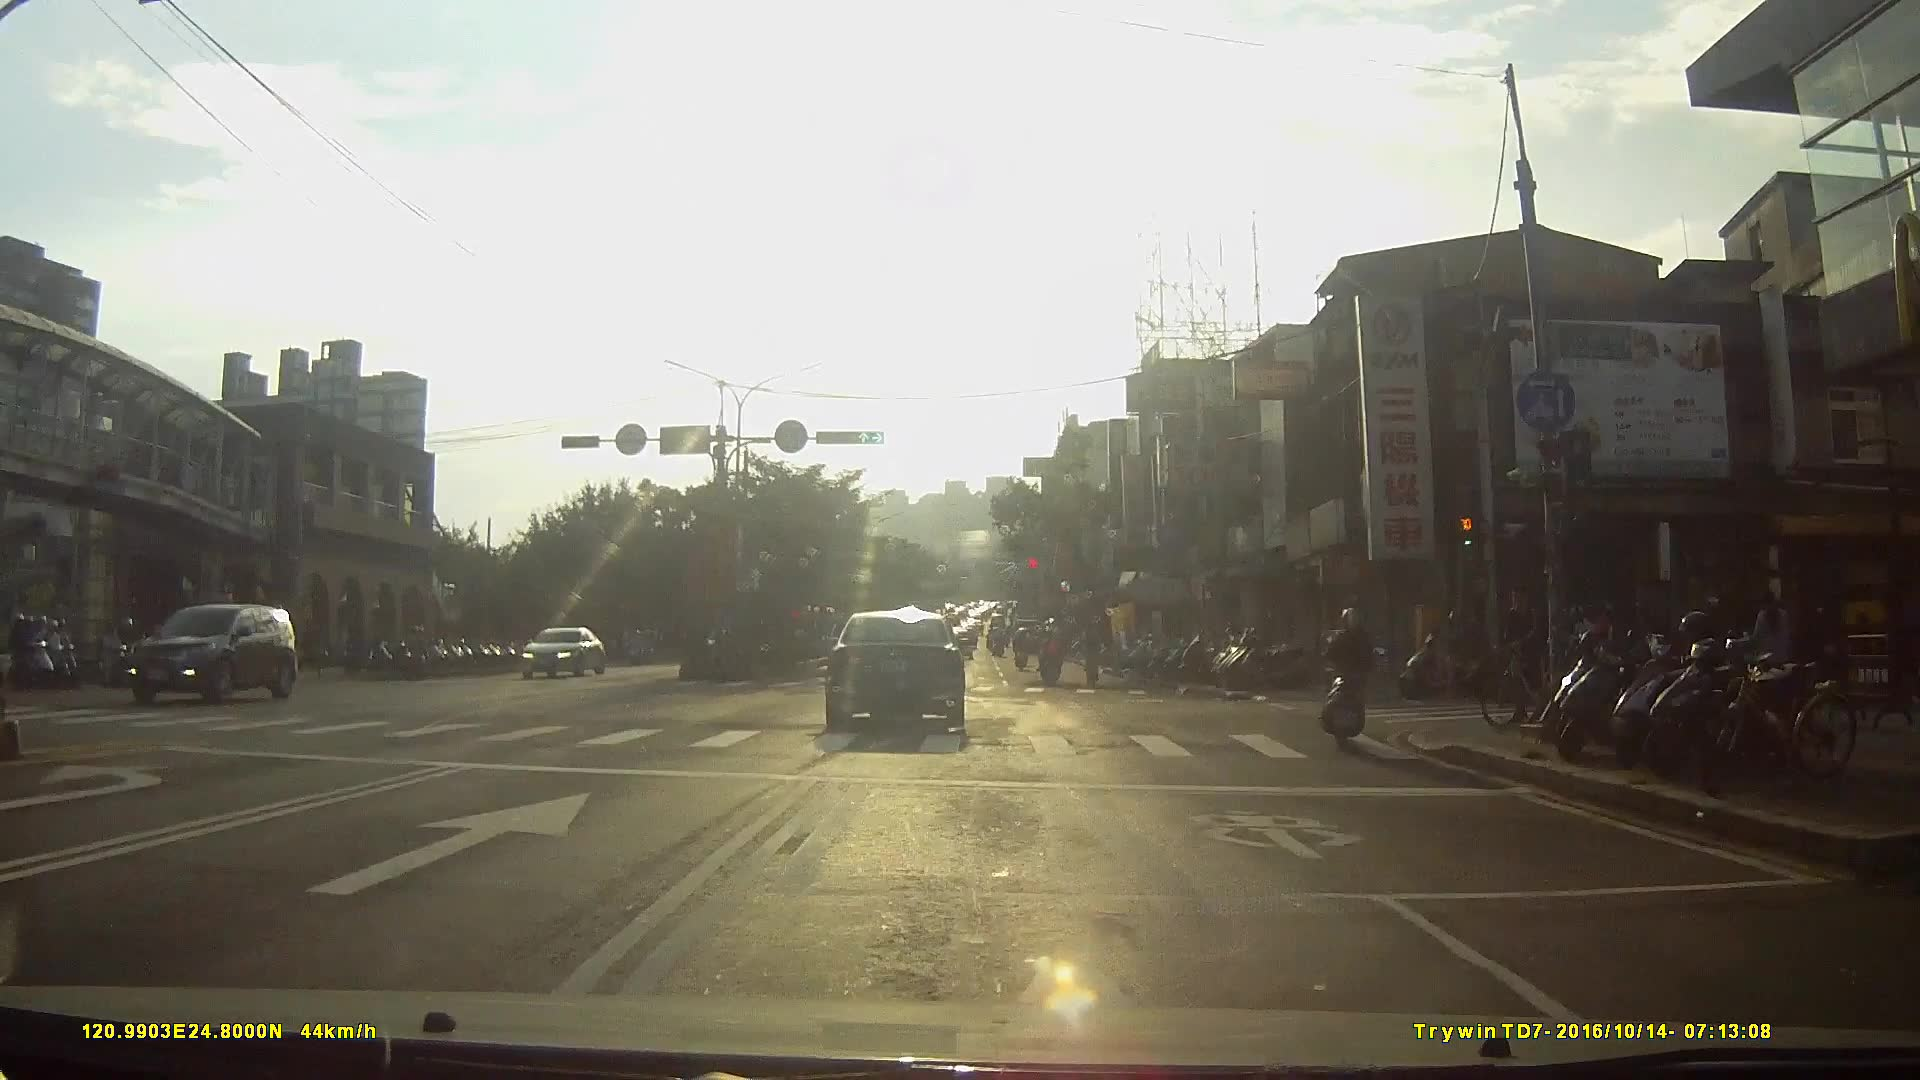pedestrian: (1753, 593, 1791, 700)
rider: (1472, 576, 1585, 732), (1320, 615, 1390, 754), (1, 611, 60, 692), (1038, 625, 1069, 688), (403, 621, 434, 679), (1010, 629, 1033, 675)
vehicle: (825, 609, 983, 749), (122, 602, 305, 712), (520, 629, 610, 683)
